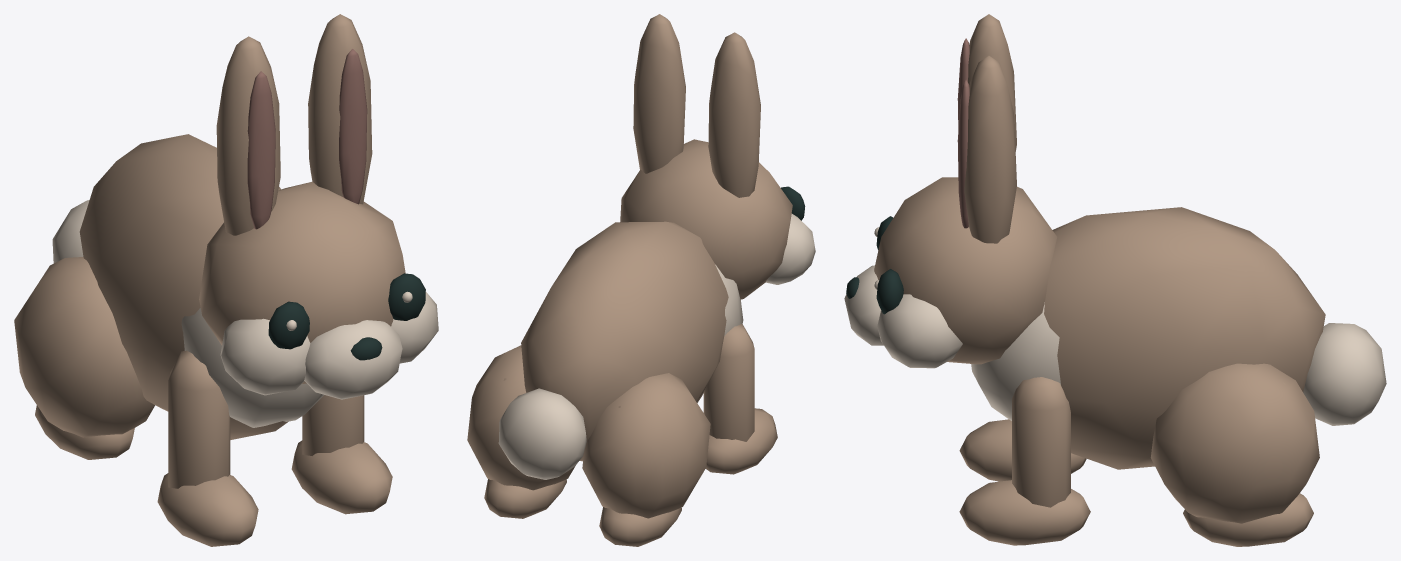
The model's file is org_rabbit.glb.
The picture shows the model from 3 angles, left to right: view 1: azimuth 30°, elevation 25°; view 2: azimuth 150°, elevation 25°; view 3: azimuth 270°, elevation 25°; orthographic projection. The views are drawn at different scales.
Parts seen in each view (by area): view 1: Head, Body, Leg_FR, Leg_FL, Leg_BR, Eye_R, Eye_L, Tail; view 2: Body, Head, Leg_FR, Tail, Leg_BL, Leg_BR; view 3: Body, Head, Leg_FL, Tail, Leg_BL, Leg_FR, Eye_L.
Boxes of the visible parts, x1,y1,x2,y2 form: Head: (199,14,438,399); Body: (14,134,323,439); Leg_FR: (157,350,258,546); Leg_FL: (291,395,392,514); Leg_BR: (35,405,134,459); Eye_R: (268,301,309,349); Eye_L: (388,273,425,320); Tail: (52,200,89,263); Body: (467,221,743,518); Head: (620,14,815,299); Leg_FR: (703,324,777,474); Tail: (498,388,586,479); Leg_BL: (484,378,566,518); Leg_BR: (599,406,681,546); Body: (971,207,1325,523); Head: (844,14,1057,368); Leg_FL: (959,377,1090,545); Tail: (1303,323,1386,425); Leg_BL: (1183,382,1313,546); Leg_FR: (959,419,1086,481); Eye_L: (874,269,903,314).
Size of the model in its own units: 0.271 by 0.5 by 0.516.
